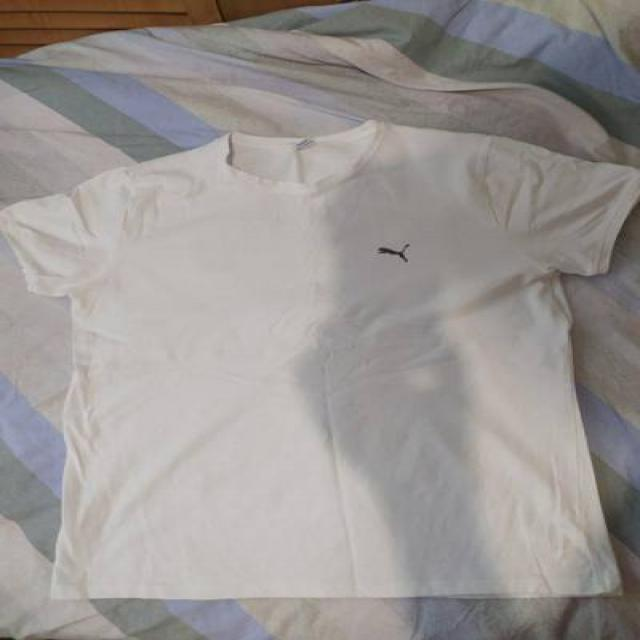Clothes -Biodegradable-: (0, 120, 640, 600)
